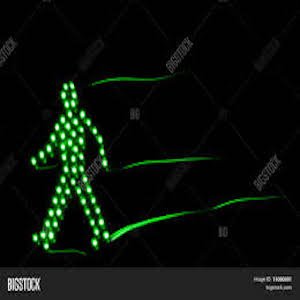green: (18, 74, 117, 247)
